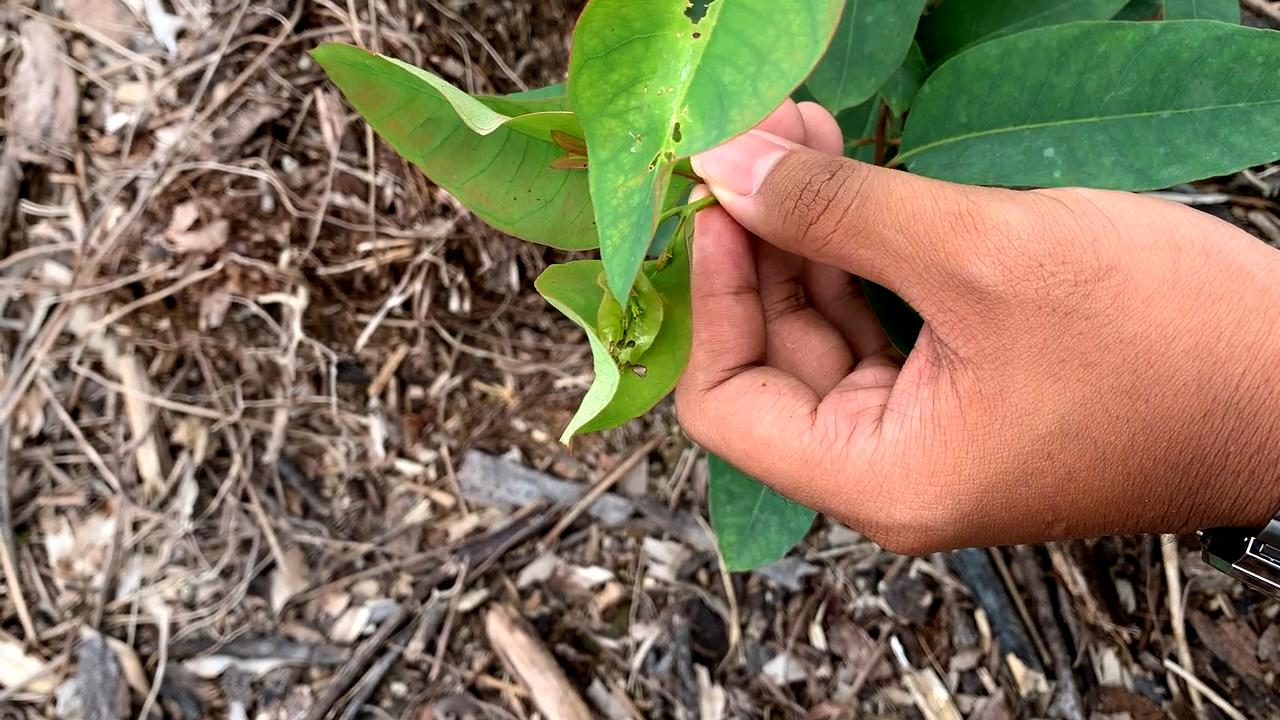Leaf Roller - Leaf: (590, 262, 667, 383)
